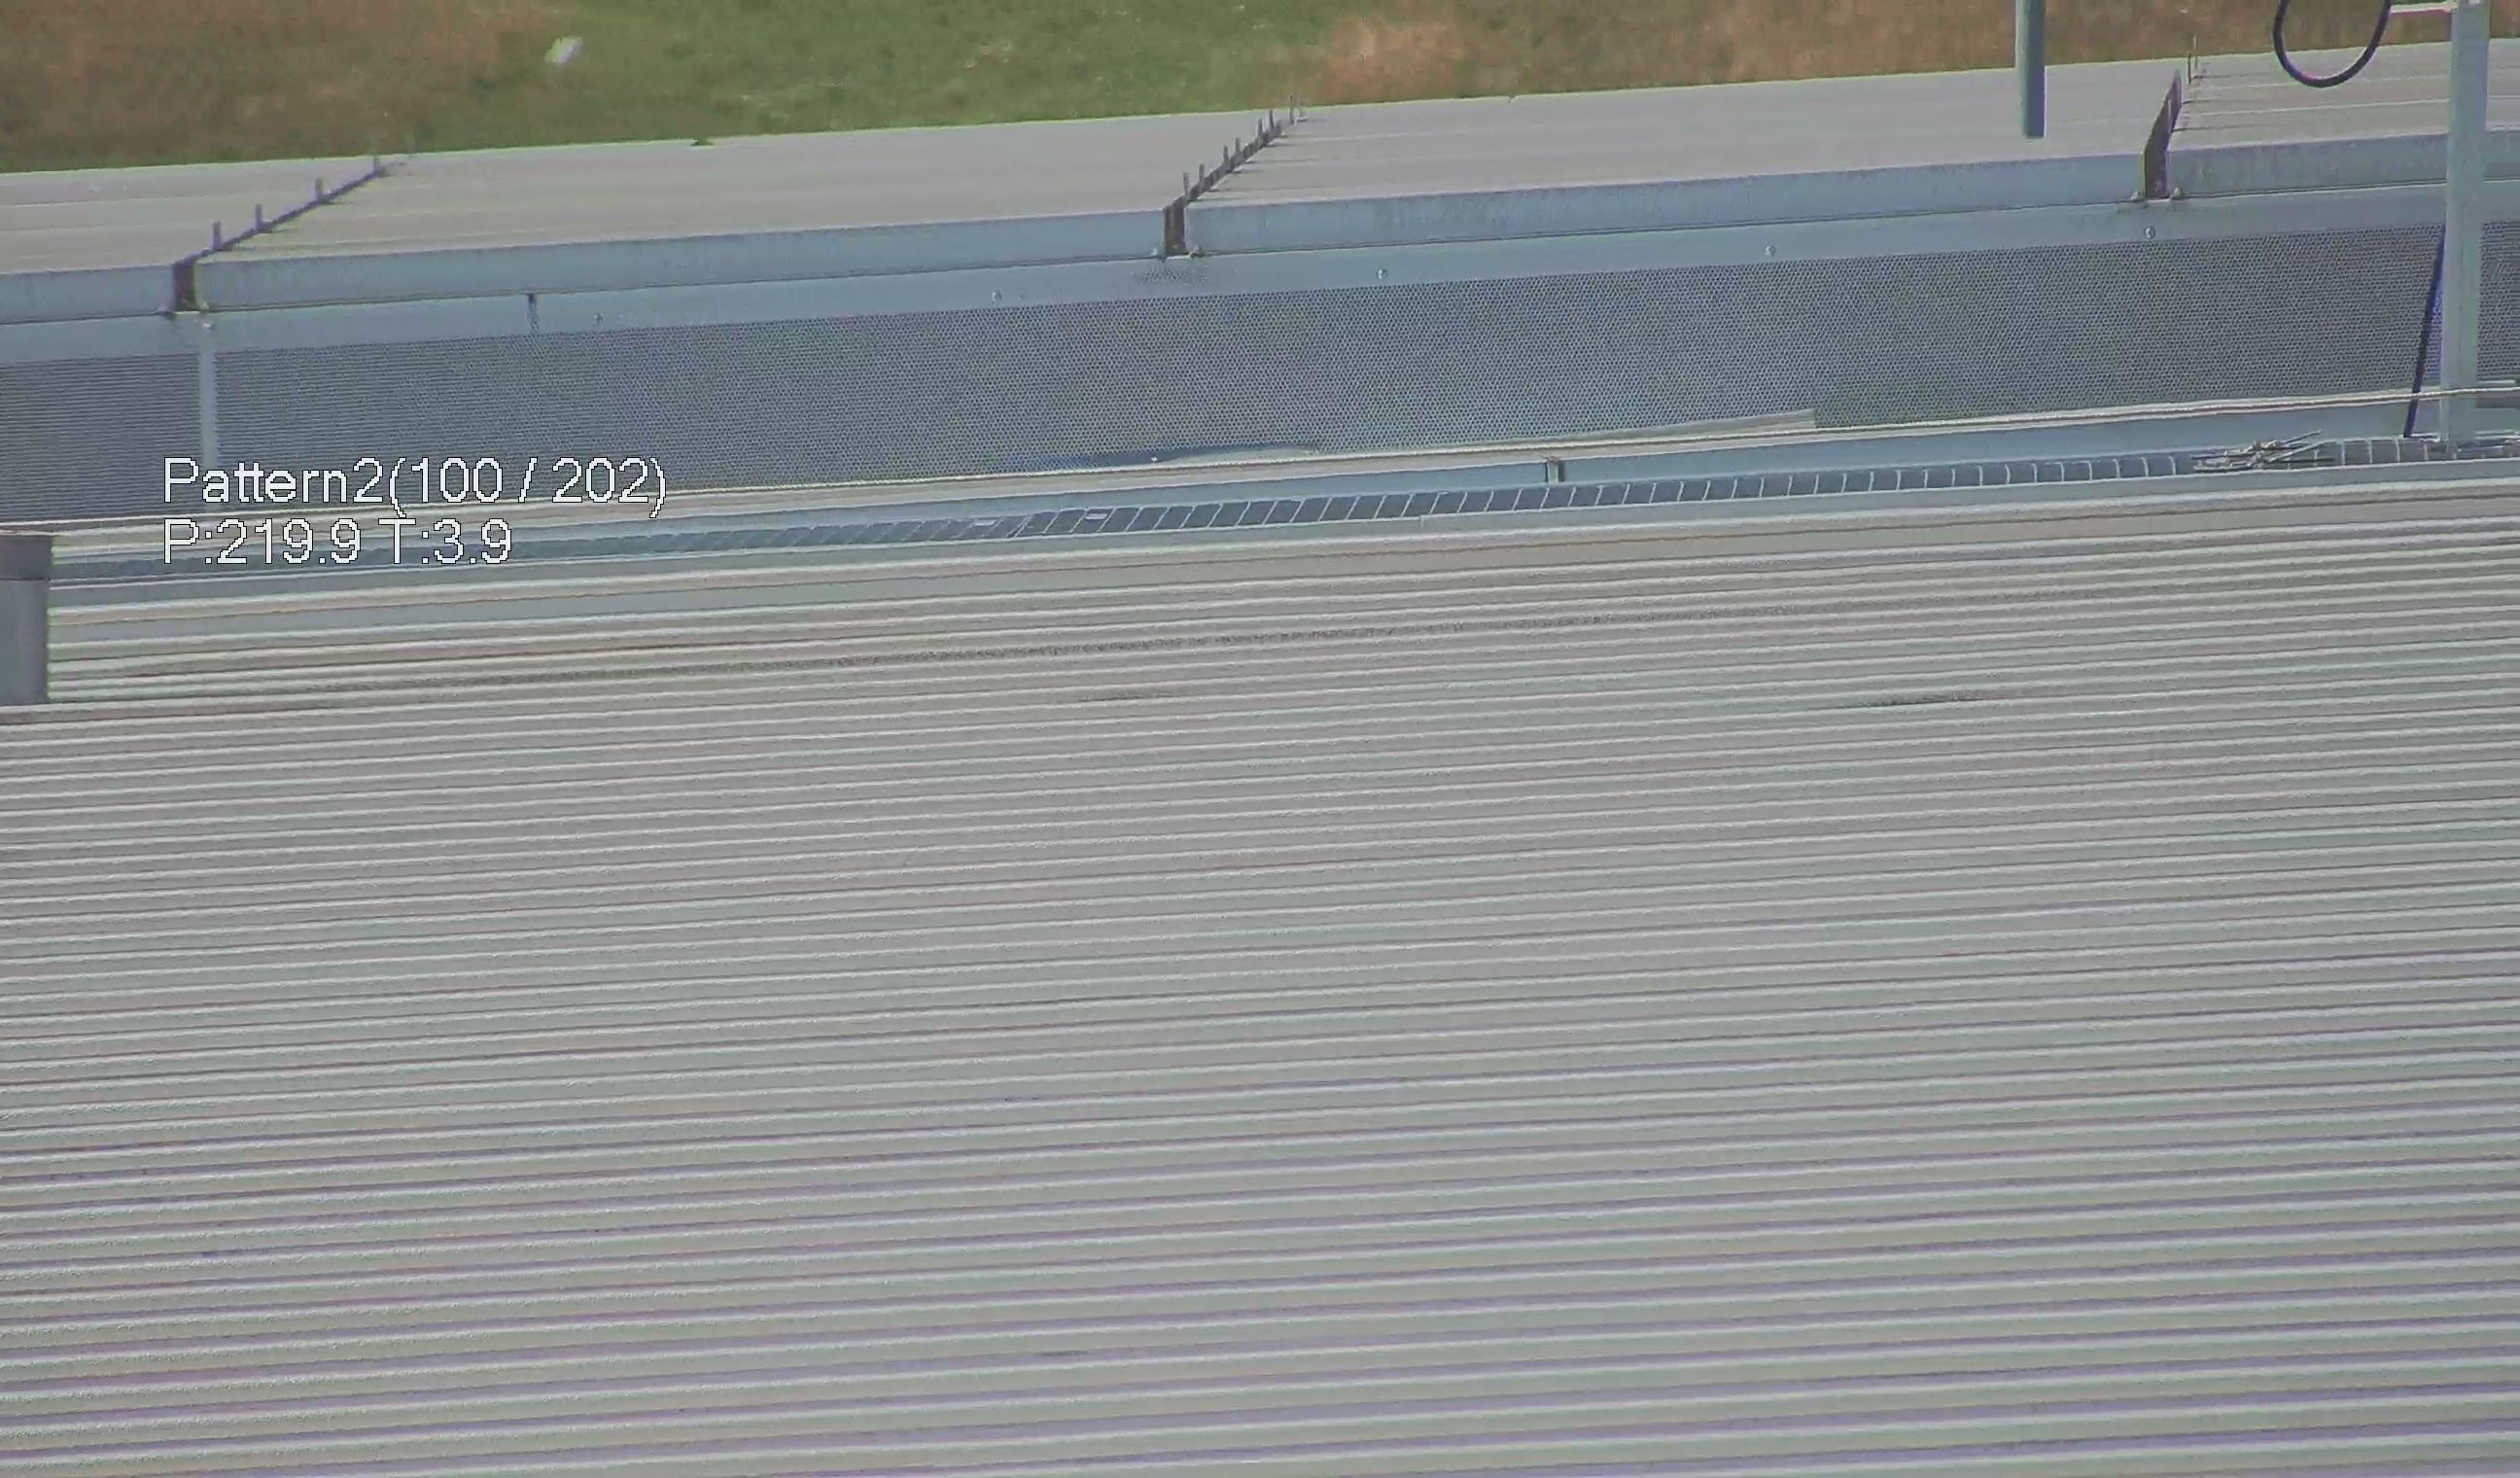Other: (2135, 62, 2218, 211)
